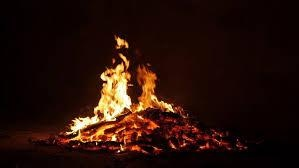fire: (62, 33, 191, 150)
